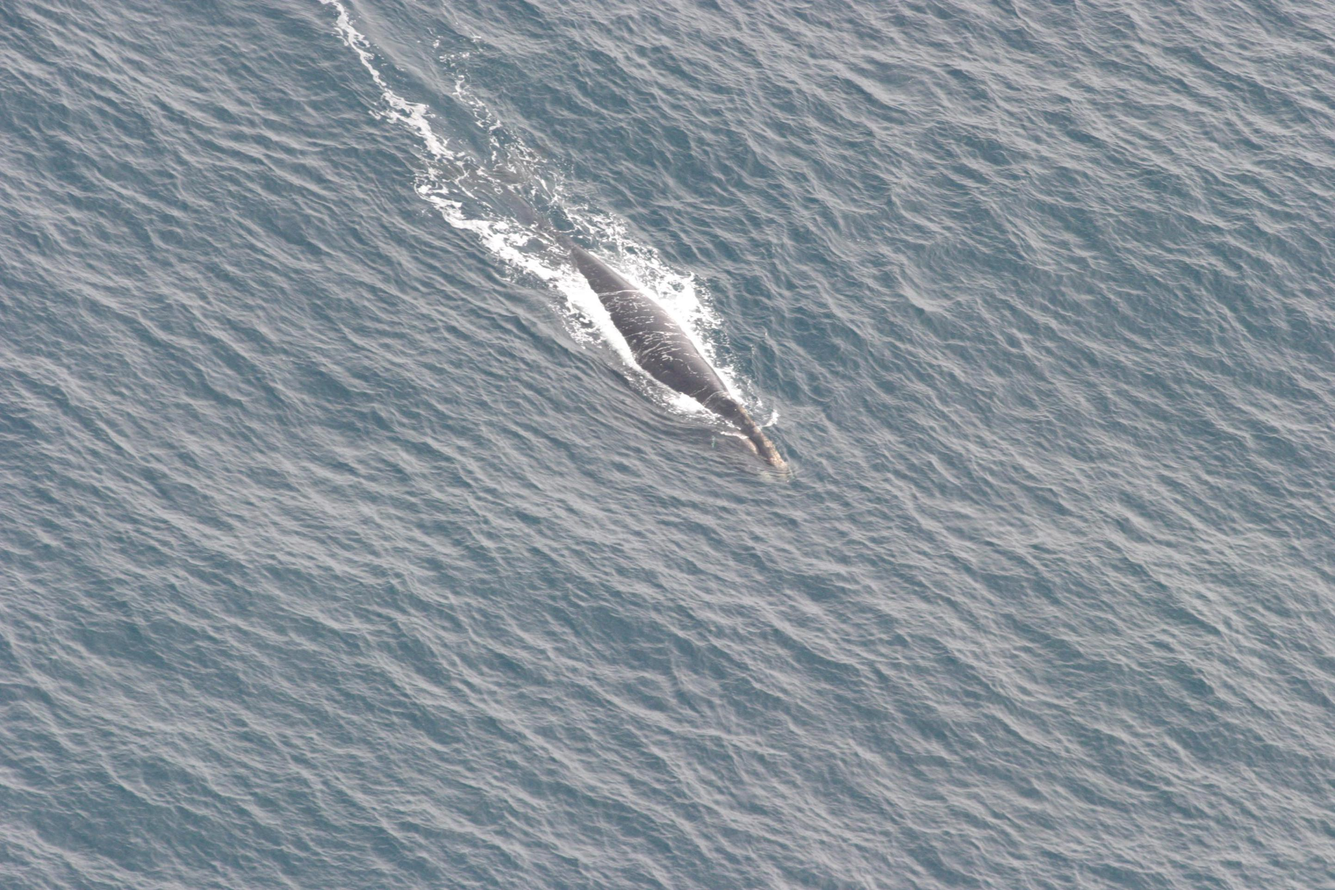whale: (481, 150, 802, 494)
